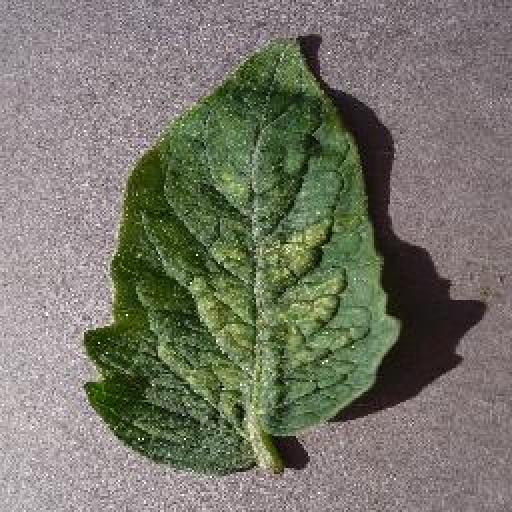Spider Mites: (85, 34, 400, 474)
